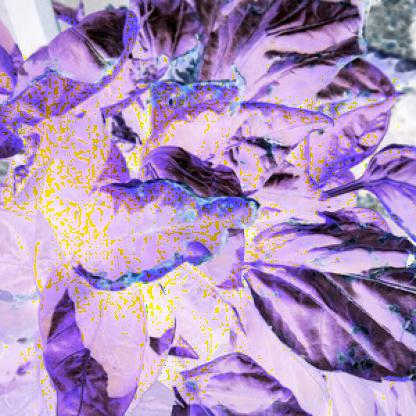bell pepper leaf spot: (252, 211, 415, 380), (44, 176, 273, 294), (141, 97, 338, 182), (129, 67, 257, 171), (43, 7, 135, 89)
